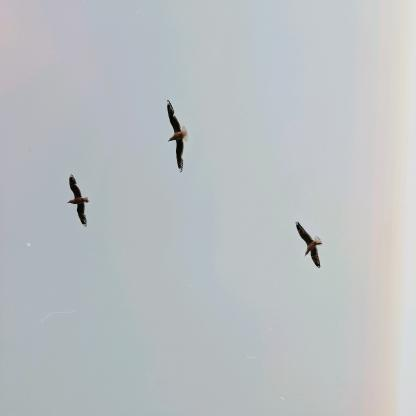bird: (166, 99, 189, 173), (66, 174, 91, 228), (296, 221, 322, 269)
